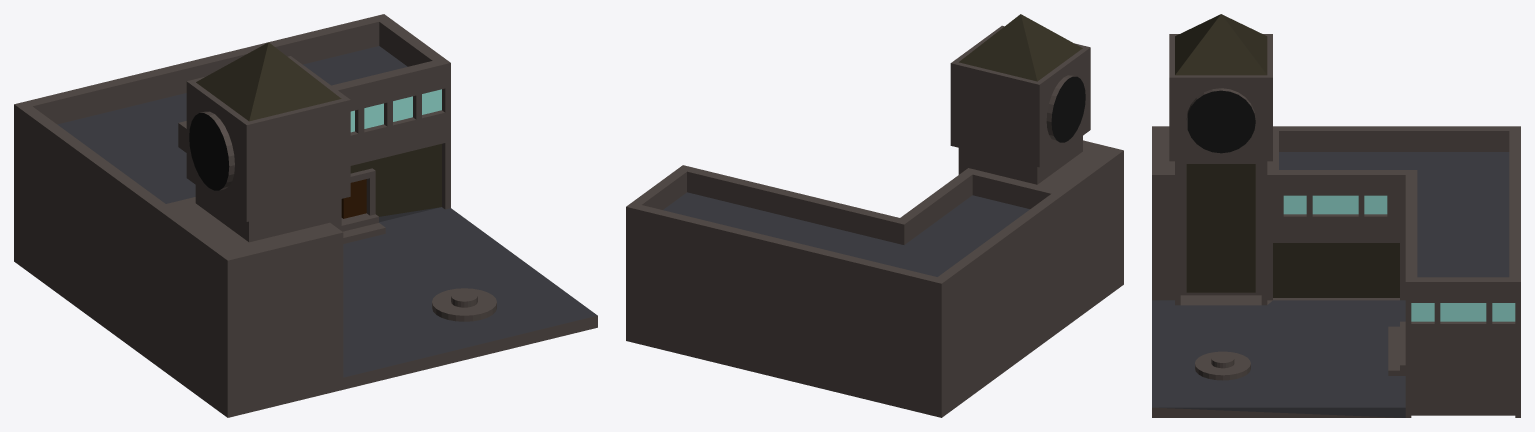
Rendered from Escuela.fbx.
3 renders of one model, left to right at view 1: azimuth 30°, elevation 25°; view 2: azimuth 150°, elevation 25°; view 3: azimuth 270°, elevation 25°, orthographic. The views are drawn at different scales.
Parts seen in each view (by area): view 1: Escuela; view 2: Escuela; view 3: Escuela.
Boxes of the visible parts, x1=… form: Escuela: x1=14, y1=14, x2=597, y2=417; Escuela: x1=626, y1=14, x2=1123, y2=417; Escuela: x1=1152, y1=14, x2=1520, y2=417.
Size of the model in its own units: 6556 by 5532 by 6556.
